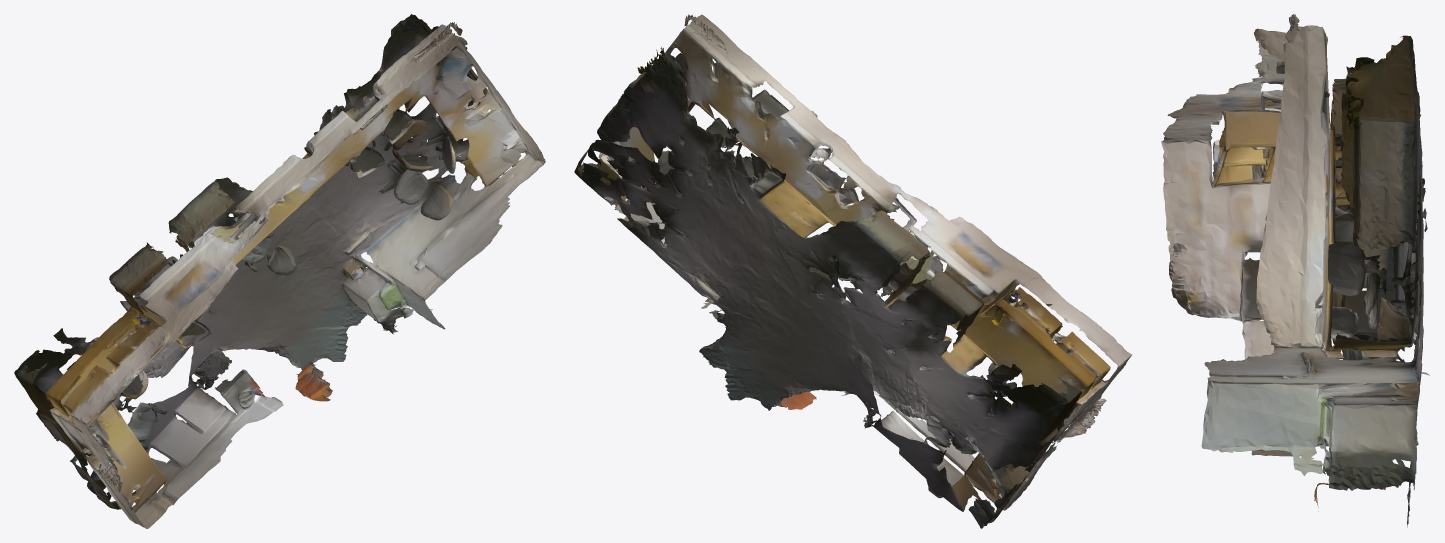
The model's file is reference_scene0131.glb.
3 renders of one model, left to right at view 1: azimuth 30°, elevation 25°; view 2: azimuth 150°, elevation 25°; view 3: azimuth 270°, elevation 25°, orthographic. The views are drawn at different scales.
Size of the model in its own units: 7.64 by 6.2 by 2.17.
